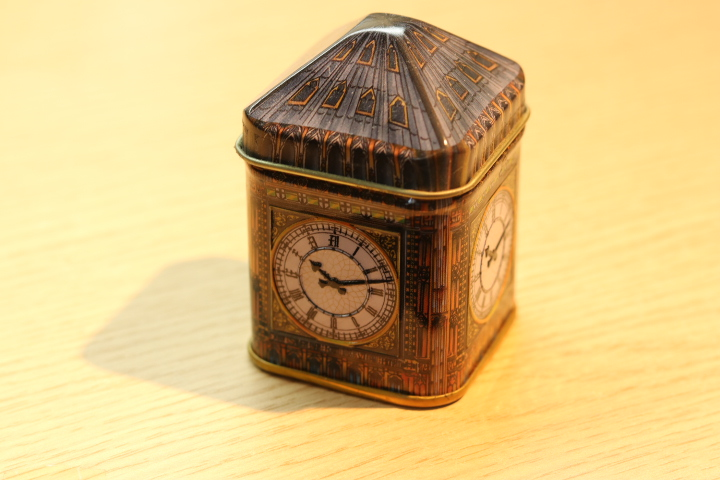Big Ben: (196, 8, 562, 424)
